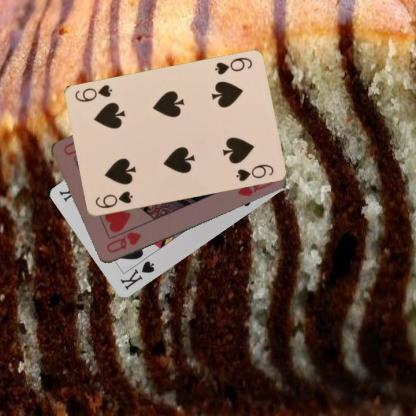6s: (92, 188, 134, 210), (212, 55, 253, 76)
Ks: (117, 258, 156, 292)
Qh: (104, 229, 142, 255)
